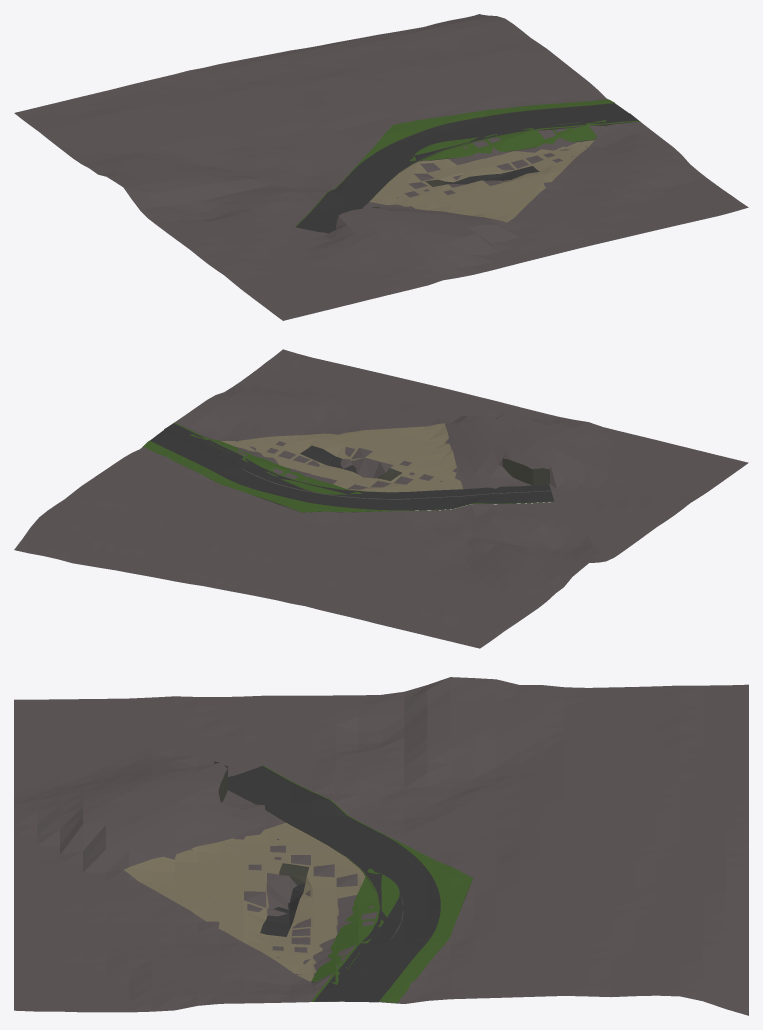
3 renders of one model, top to bottom at view 1: azimuth 30°, elevation 25°; view 2: azimuth 150°, elevation 25°; view 3: azimuth 270°, elevation 25°, orthographic. The views are drawn at different scales.
Visible parts, largest first — view 1: c_m21_p02; view 2: c_m21_p02; view 3: c_m21_p02.
Part boxes in pixels (left/top/right/bottom): c_m21_p02: left=14, top=14, right=748, bottom=320; c_m21_p02: left=14, top=349, right=748, bottom=648; c_m21_p02: left=14, top=677, right=748, bottom=1015.
Size of the model in its own units: 128 by 8.88 by 128.
